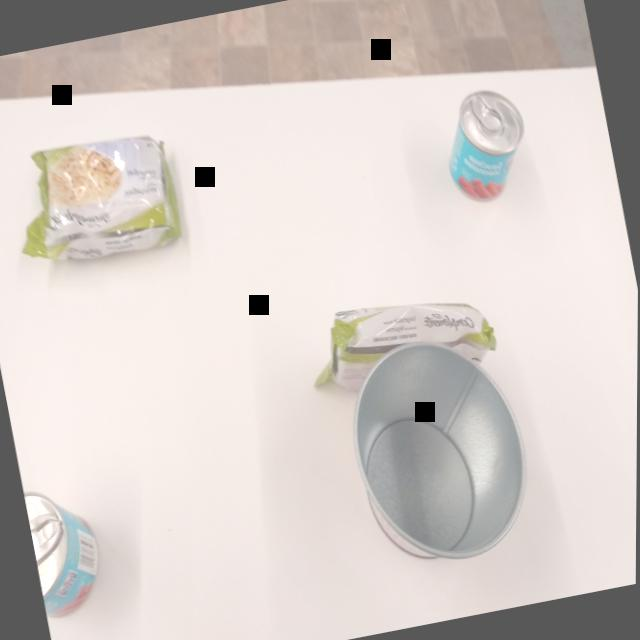noodles: (0, 118, 196, 281)
sausages: (434, 80, 542, 215)
